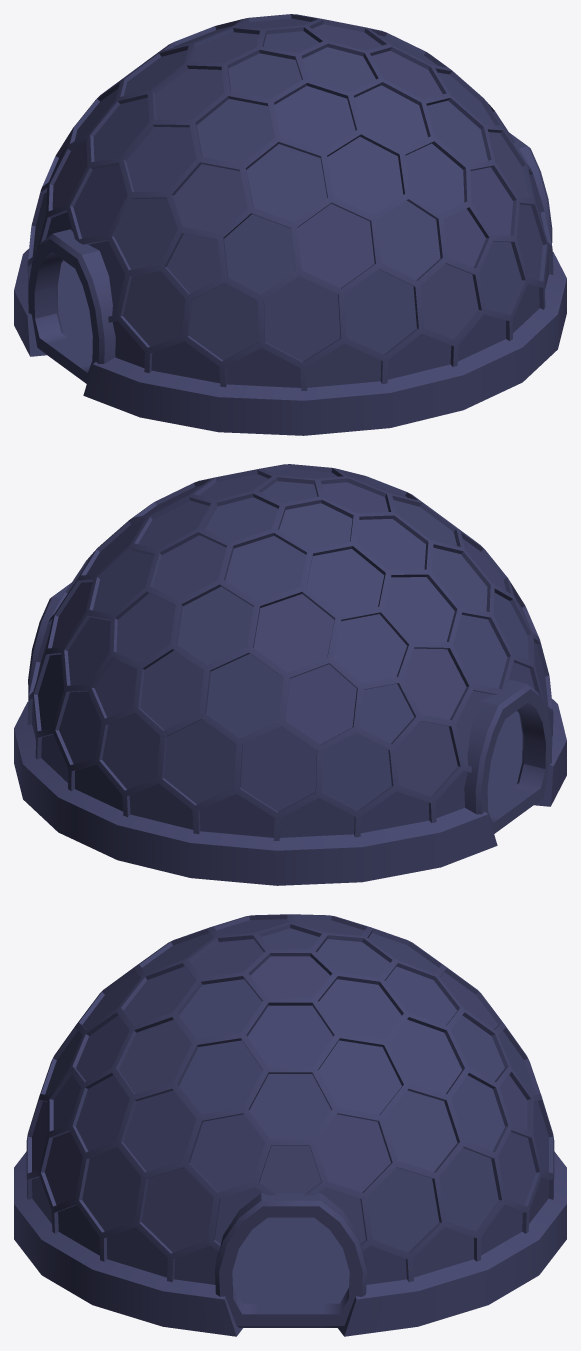
Rendered from building_dome_two_inputs.fbx.
3 views of the same model, one above another, from view 1: azimuth 30°, elevation 25°; view 2: azimuth 150°, elevation 25°; view 3: azimuth 270°, elevation 25° (orthographic).
Parts seen in each view (by area): view 1: building_dome_two_inputs.001, building_dome_two_inputs.004, building_dome_two_inputs, building_dome_two_inputs.003, building_dome_two_inputs.002; view 2: building_dome_two_inputs.001, building_dome_two_inputs.004, building_dome_two_inputs, building_dome_two_inputs.003, building_dome_two_inputs.002; view 3: building_dome_two_inputs.001, building_dome_two_inputs.004, building_dome_two_inputs, building_dome_two_inputs.003, building_dome_two_inputs.002.
Boxes of the visible parts, left/top/right/bottom form: building_dome_two_inputs.001: left=32, top=18, right=548, bottom=387; building_dome_two_inputs.004: left=27, top=14, right=553, bottom=390; building_dome_two_inputs: left=14, top=249, right=566, bottom=435; building_dome_two_inputs.003: left=28, top=132, right=552, bottom=383; building_dome_two_inputs.002: left=57, top=261, right=92, bottom=354; building_dome_two_inputs.001: left=32, top=468, right=548, bottom=837; building_dome_two_inputs.004: left=27, top=464, right=553, bottom=840; building_dome_two_inputs: left=14, top=699, right=566, bottom=885; building_dome_two_inputs.003: left=28, top=582, right=552, bottom=833; building_dome_two_inputs.002: left=487, top=711, right=522, bottom=805; building_dome_two_inputs.001: left=32, top=919, right=548, bottom=1284; building_dome_two_inputs.004: left=26, top=914, right=554, bottom=1282; building_dome_two_inputs: left=14, top=1151, right=566, bottom=1336; building_dome_two_inputs.003: left=215, top=1193, right=366, bottom=1327; building_dome_two_inputs.002: left=232, top=1217, right=349, bottom=1303.
Size of the model in its own units: 722 by 730 by 413.
